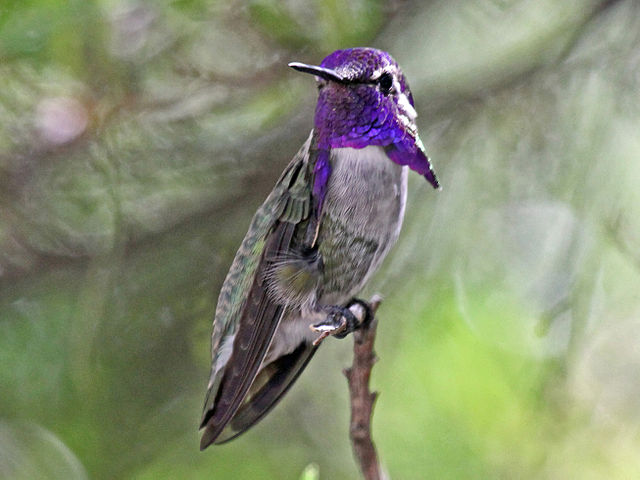calypte costae: (197, 49, 437, 448)
